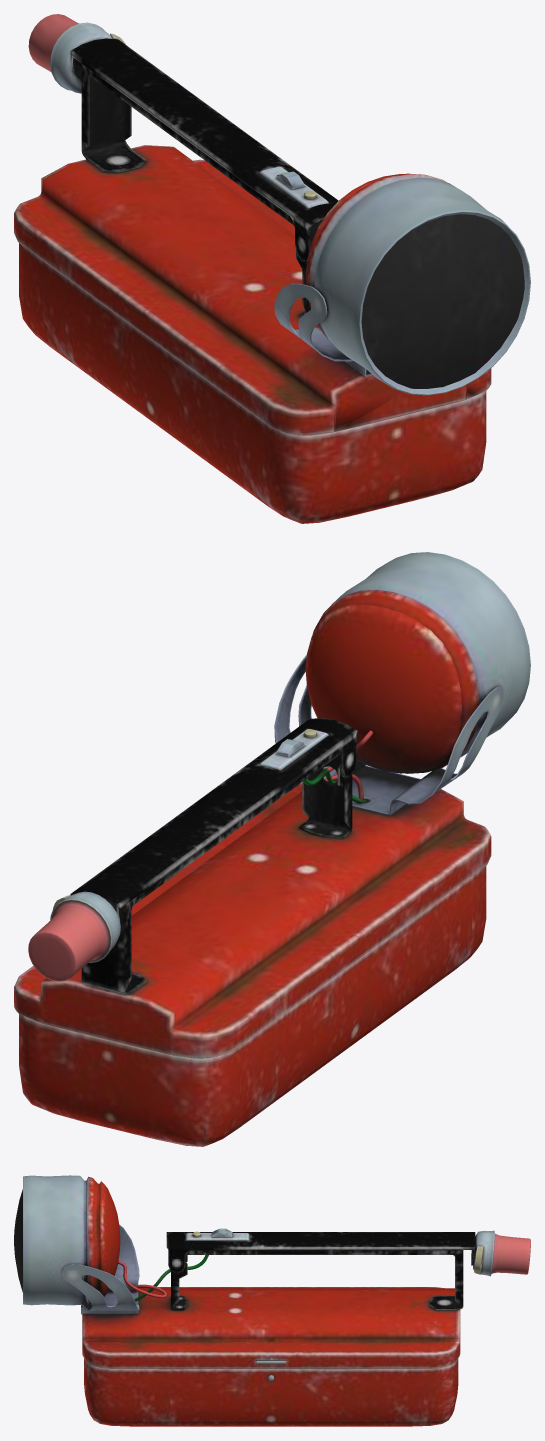
File: vintage_flashlight.glb
3 views of the same model, one above another, from view 1: azimuth 30°, elevation 25°; view 2: azimuth 150°, elevation 25°; view 3: azimuth 270°, elevation 25° (orthographic). The views are drawn at different scales.
Size of the model in its own units: 0.0959 by 0.1443 by 0.3055.
Materials: 2 (2 with a texture image).
